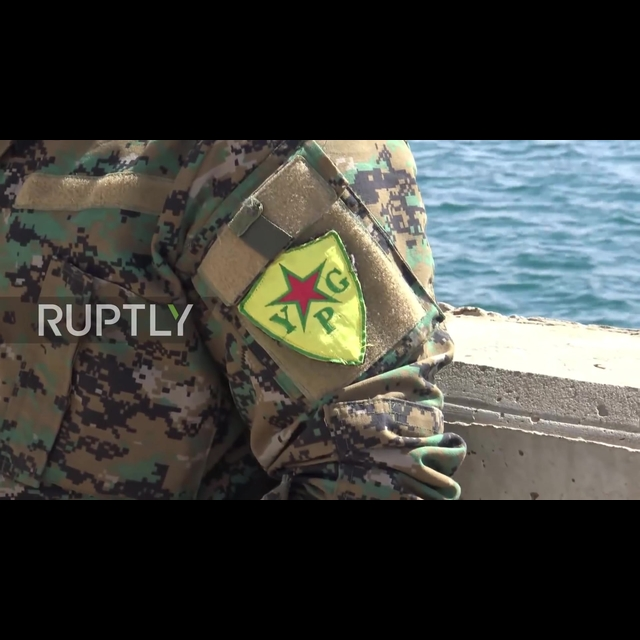YPG: (271, 263, 351, 338)
